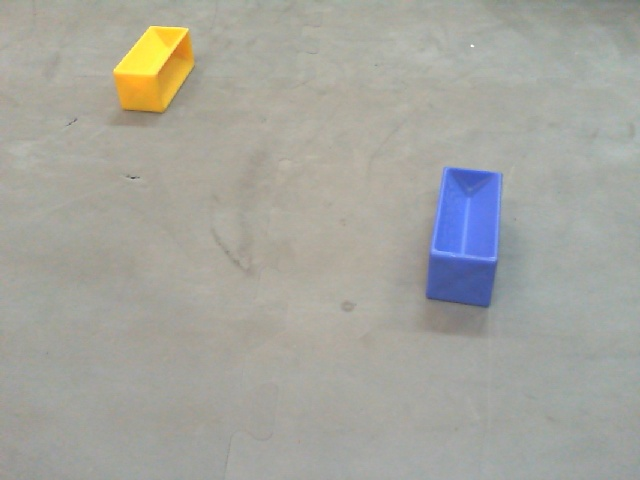BlueSample: (422, 161, 507, 308)
YellowSample: (113, 22, 197, 116)
